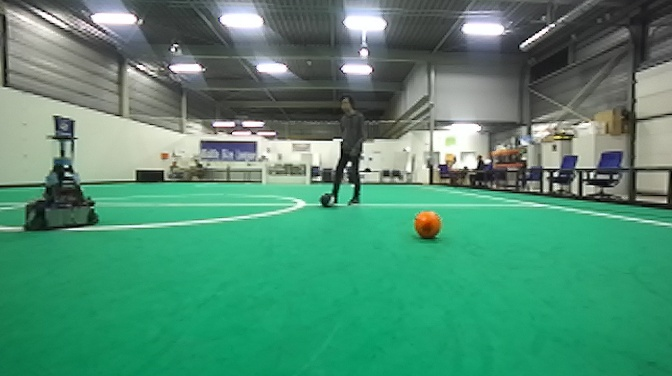ball: (412, 208, 448, 244), (316, 189, 340, 211)
goal: (259, 158, 312, 188)
goalpost: (303, 162, 314, 189), (259, 159, 266, 187)
human: (326, 94, 372, 206)
robot: (18, 110, 109, 232)
